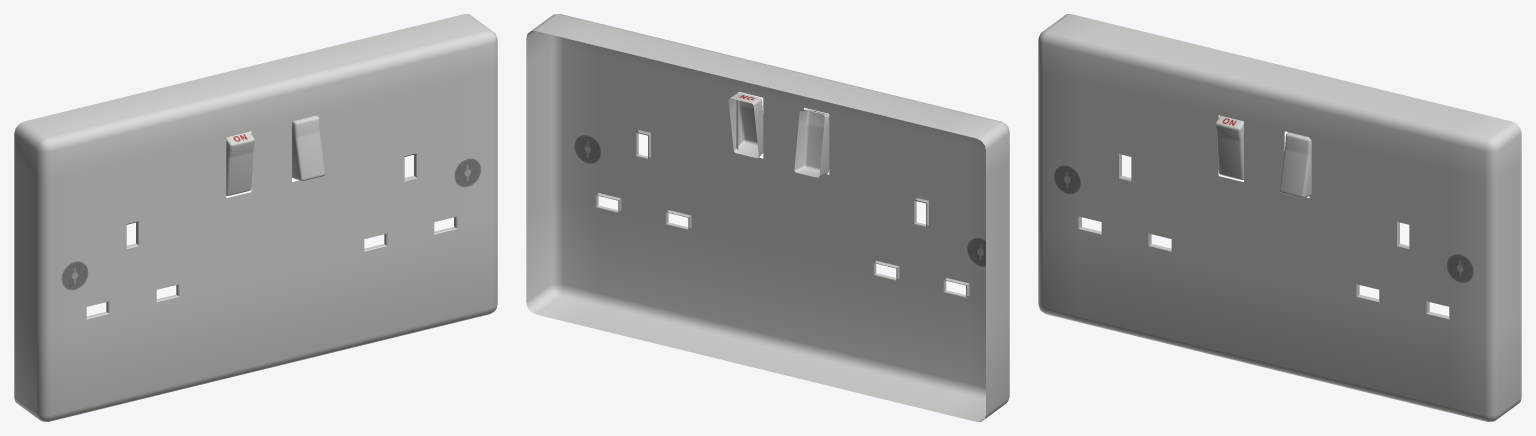
Rendered from Electric Socket.glb.
3 views of the same model, side by side, from view 1: azimuth 30°, elevation 25°; view 2: azimuth 150°, elevation 25°; view 3: azimuth 330°, elevation 25° (orthographic).
Visible parts, largest first — view 1: SM_plug, SM_right_switch, SM_left_switch; view 2: SM_plug, SM_left_switch, SM_right_switch; view 3: SM_plug, SM_right_switch, SM_left_switch.
Boxes of the visible parts, x1,y1,x2,y2 form: SM_plug: (14,14,497,421); SM_right_switch: (292,115,325,181); SM_left_switch: (226,131,254,195); SM_plug: (526,14,1009,421); SM_left_switch: (794,109,829,177); SM_right_switch: (728,92,763,158); SM_plug: (1038,14,1521,421); SM_right_switch: (1279,132,1311,198); SM_left_switch: (1215,115,1243,179).
Bounding box in the file's own units: 14.6 × 8.6 × 1.93.
1 material, 1 textured.
